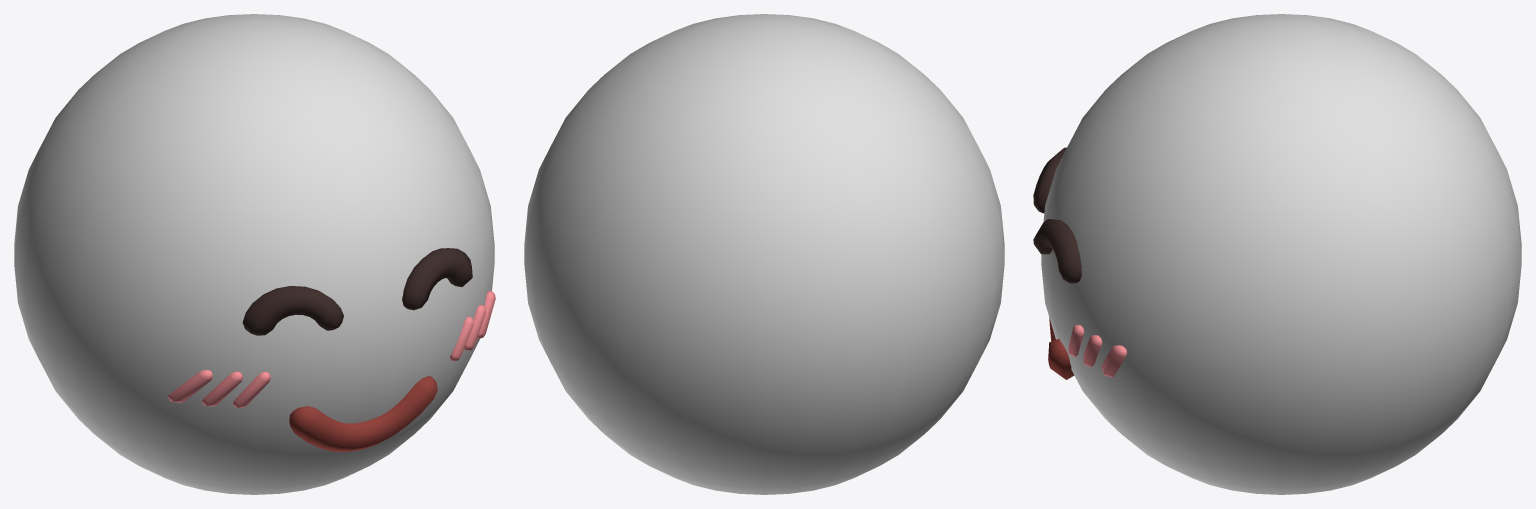
File: face_blush.glb
3 views of the same model, side by side, from view 1: azimuth 30°, elevation 25°; view 2: azimuth 150°, elevation 25°; view 3: azimuth 270°, elevation 25° (orthographic).
Parts seen in each view (by area): view 1: face_blush; view 2: face_blush; view 3: face_blush.
Boxes of the visible parts, <box> form: face_blush: <box>14,14,495,494</box>; face_blush: <box>524,14,1004,494</box>; face_blush: <box>1033,14,1521,494</box>.
Size of the model in its own units: 1 by 1 by 1.01.
